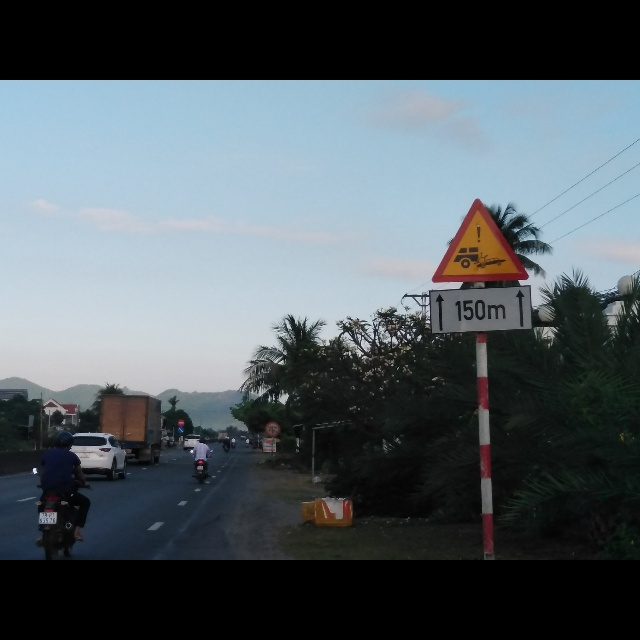Đoạn đường hay xảy ra tai nạn: (433, 197, 529, 284)
